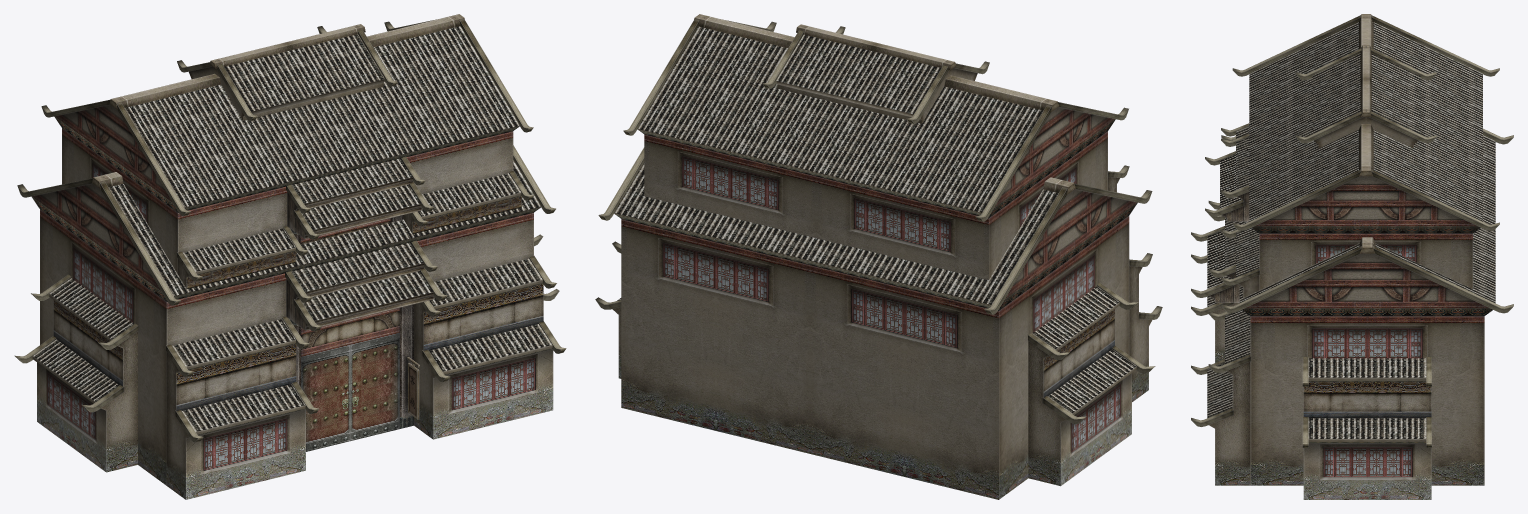
File: SongCity_hotel01.FBX
The picture shows the model from 3 angles, left to right: view 1: azimuth 30°, elevation 25°; view 2: azimuth 150°, elevation 25°; view 3: azimuth 270°, elevation 25°; orthographic projection. The views are drawn at different scales.
Bounding box in the file's own units: 2071 × 1464 × 1320.
Materials: 3 (3 with a texture image).
